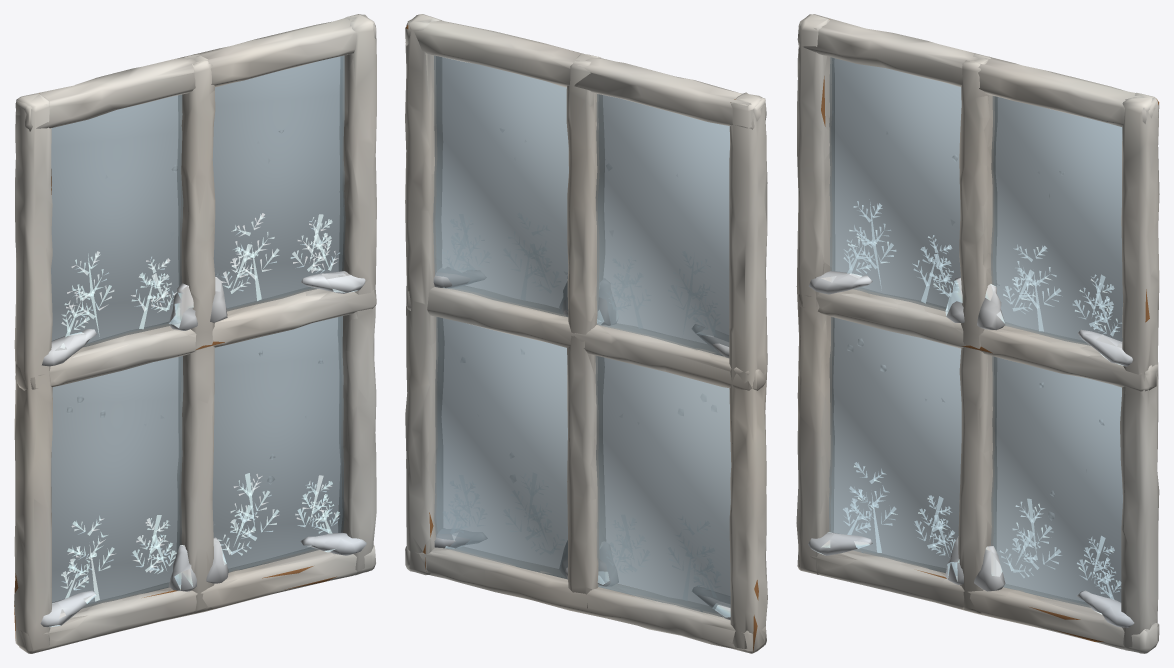
File: frost_window_pane_lod1.glb
The picture shows the model from 3 angles, left to right: view 1: azimuth 30°, elevation 25°; view 2: azimuth 150°, elevation 25°; view 3: azimuth 330°, elevation 25°; orthographic projection.
Parts seen in each view (by area): view 1: frost_window_pane.001; view 2: frost_window_pane.001; view 3: frost_window_pane.001.
Part boxes in pixels (box(x1,y1,x2,y2)): frost_window_pane.001: box(14, 14, 376, 653); frost_window_pane.001: box(405, 14, 767, 653); frost_window_pane.001: box(796, 14, 1159, 653).
Bounding box in the file's own units: 40.39 × 60.26 × 3.79.
